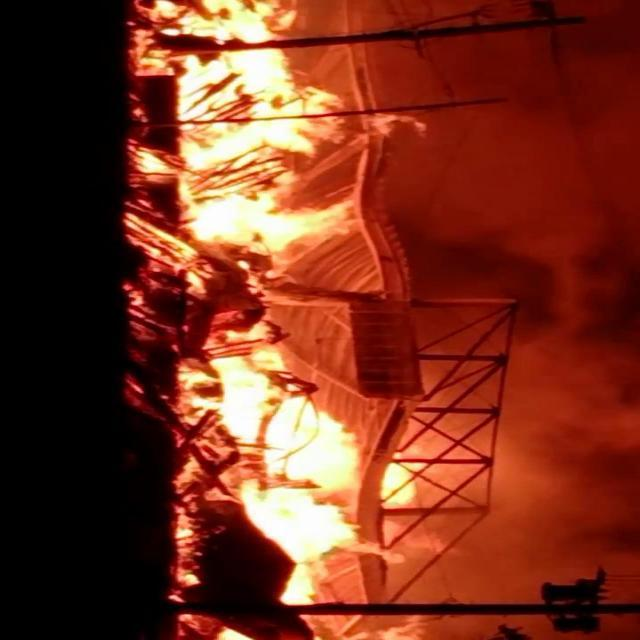Fire: (137, 2, 351, 261), (214, 322, 360, 614), (380, 462, 420, 506)
